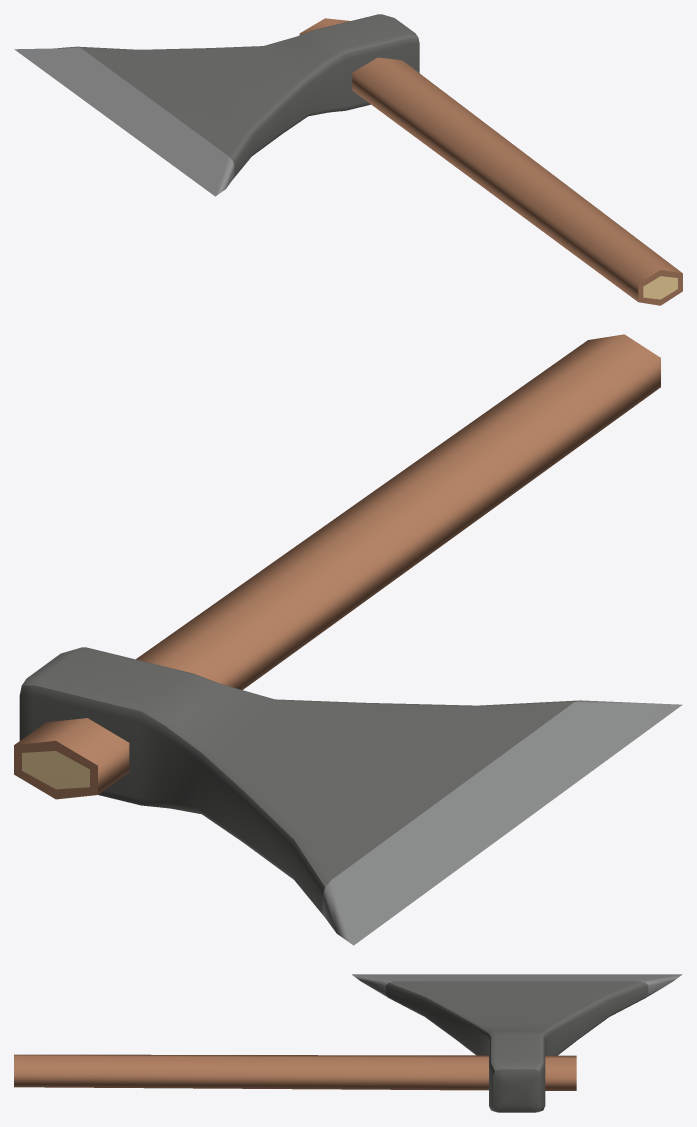
Rendered from Axe_1.fbx.
3 views of the same model, one above another, from view 1: azimuth 30°, elevation 25°; view 2: azimuth 150°, elevation 25°; view 3: azimuth 270°, elevation 25° (orthographic). The views are drawn at different scales.
Parts seen in each view (by area): view 1: Axe_1; view 2: Axe_1; view 3: Axe_1.
Boxes of the visible parts, x1=… form: Axe_1: x1=14, y1=14, x2=682, y2=305; Axe_1: x1=14, y1=334, x2=682, y2=945; Axe_1: x1=14, y1=974, x2=682, y2=1112.
Bounding box in the file's own units: 4.98 × 1 × 11.89.
